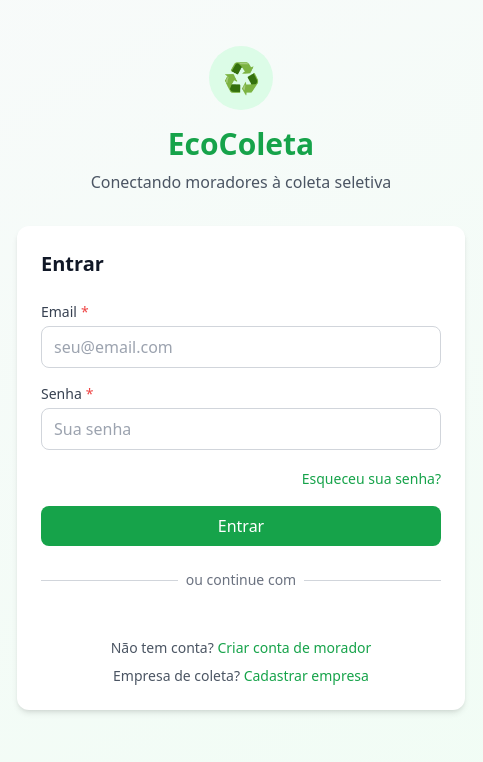
LoginPage › shows error message on login failure
The width and height of the screenshot is (483, 762).
Step 1. Type "wrong@example.com" into the field labelled "Email*" → [241, 347], box x1=41 y1=326 x2=441 y2=368
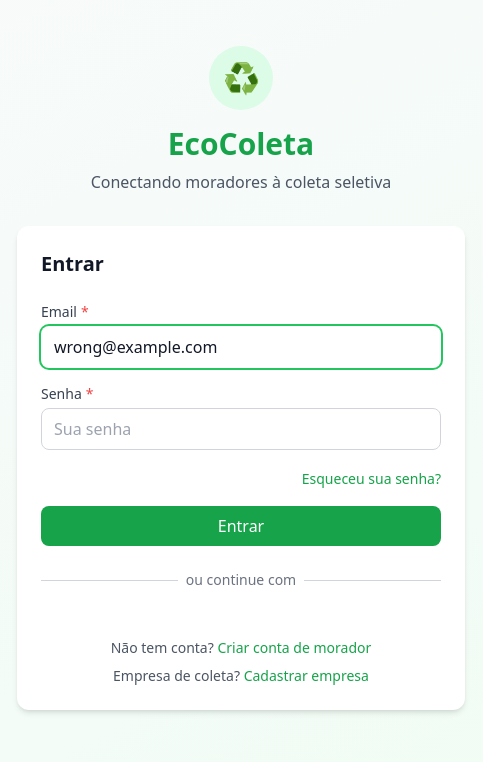
Step 2. Type "wrongpass" into the password field labelled "Senha*" → [241, 429], box x1=41 y1=408 x2=441 y2=450
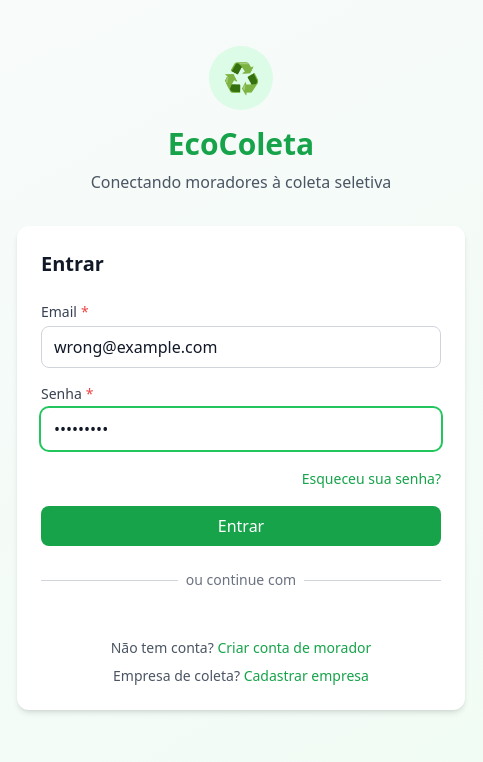
Step 3. Click the button "Entrar" → [241, 526], box x1=41 y1=506 x2=441 y2=546
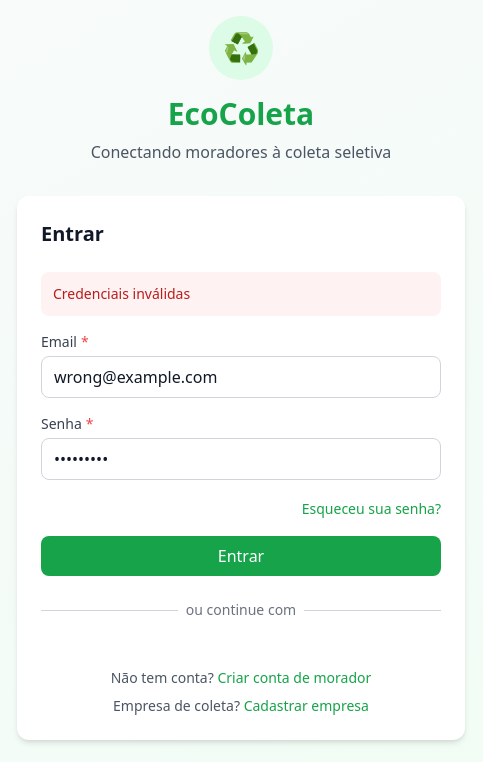
Expected: the text "Credenciais inválidas" is shown, x1=53 y1=284 x2=190 y2=303
